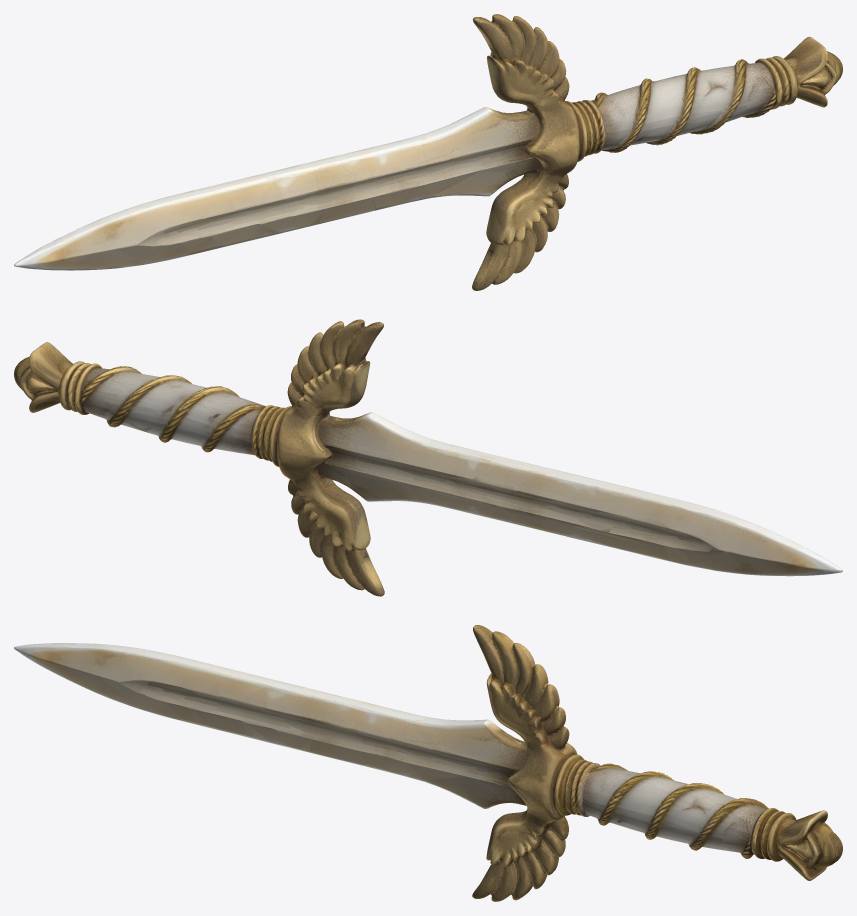
File: hf_holydagger.glb
3 renders of one model, top to bottom at view 1: azimuth 30°, elevation 25°; view 2: azimuth 150°, elevation 25°; view 3: azimuth 330°, elevation 25°, orthographic.
Bounding box in the file's own units: 1.9 × 0.5961 × 0.1311.
1 material, 1 textured.
